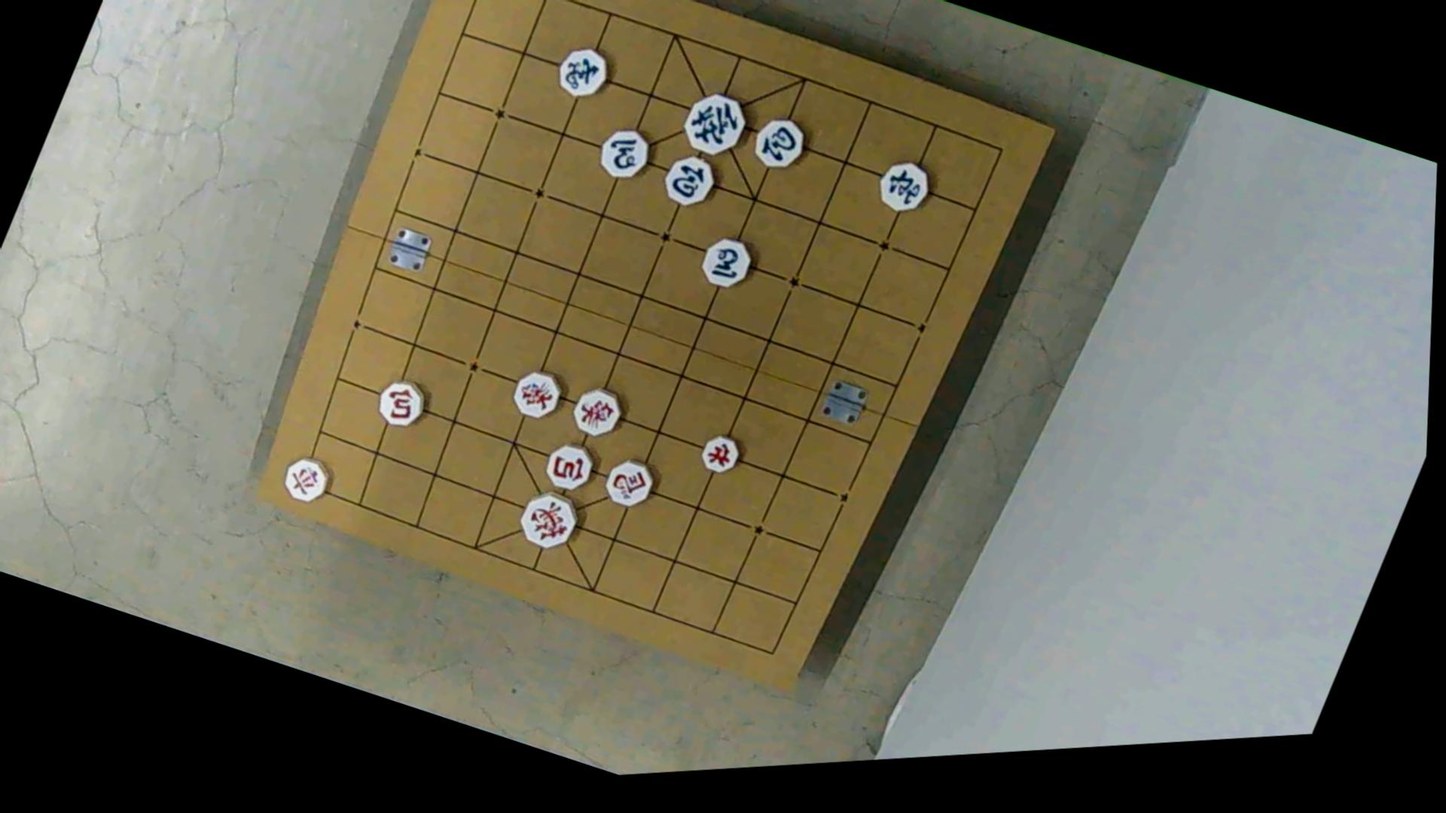cha_green: (872, 155, 935, 219)
cha_red: (276, 451, 334, 508)
jol_red: (697, 428, 746, 477)
ma_green: (593, 121, 657, 187), (694, 230, 757, 294)
ma_red: (600, 453, 661, 514)
po_green: (655, 150, 720, 215), (749, 111, 813, 175)
po_red: (539, 437, 599, 498), (374, 376, 432, 434)
sang_green: (551, 41, 615, 106)
sang_red: (566, 381, 628, 443), (508, 365, 568, 425)
wang_green: (677, 85, 756, 166)
wang_red: (515, 485, 587, 556)
